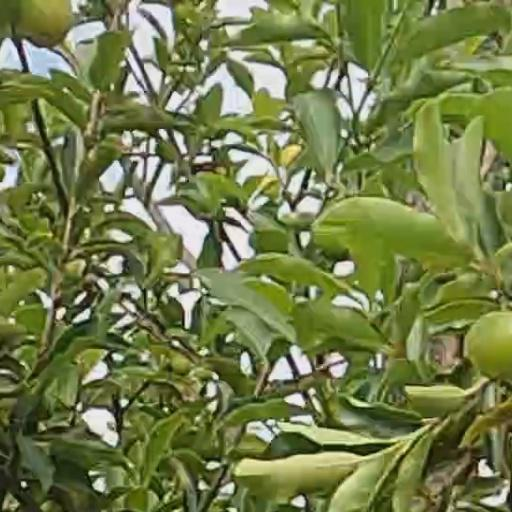acerola: (466, 310, 512, 379), (22, 1, 73, 46)
